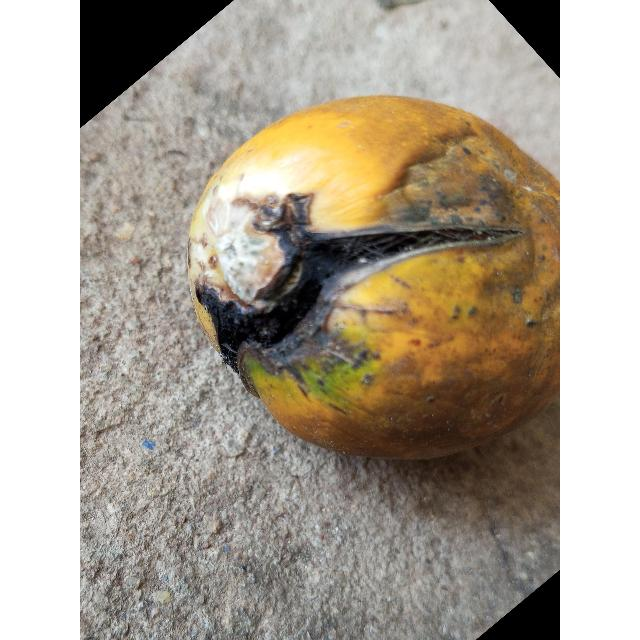damaged: (187, 94, 560, 463)
